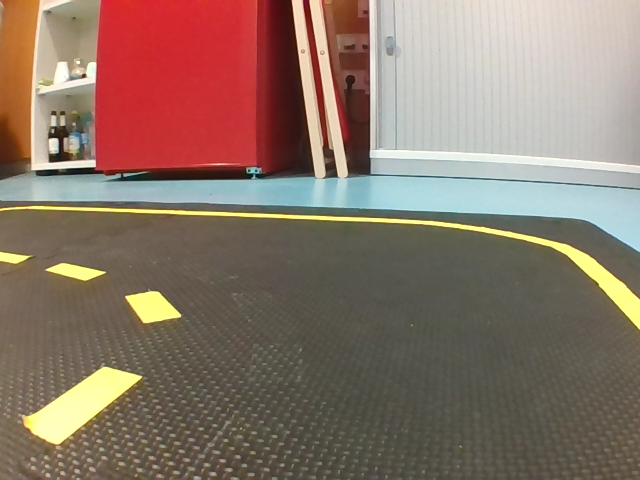30: (479, 72, 538, 138)
no30: (64, 110, 77, 142)
